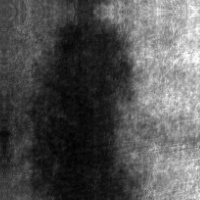patches: (36, 24, 130, 199)
